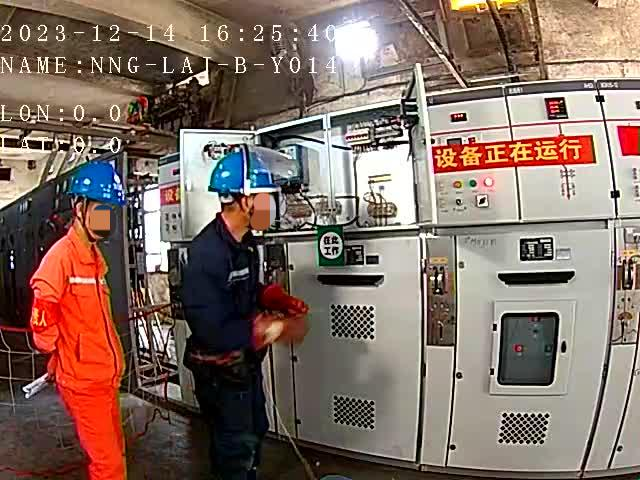halt: (211, 148, 285, 236), (69, 164, 128, 241)
inear: (236, 192, 263, 222), (71, 199, 93, 229)
